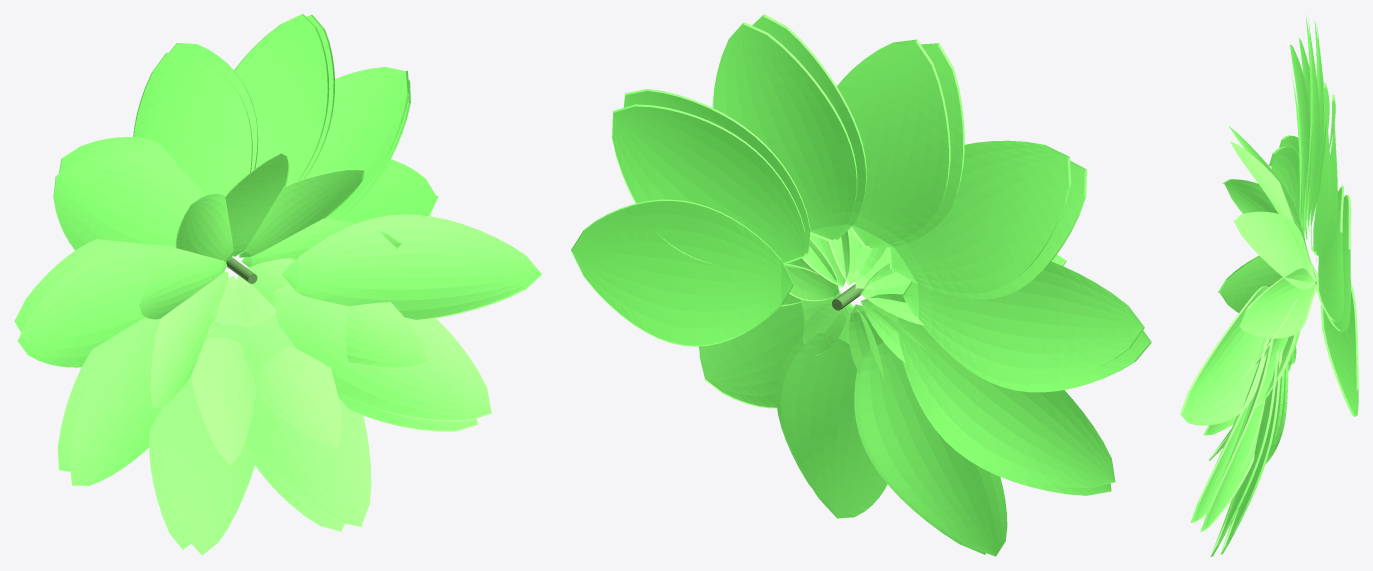
File: maturity.glb
3 renders of one model, left to right at view 1: azimuth 30°, elevation 25°; view 2: azimuth 150°, elevation 25°; view 3: azimuth 270°, elevation 25°, orthographic. The views are drawn at different scales.
Visible parts, largest first — view 1: world; view 2: world; view 3: world.
Boxes of the visible parts, x1,y1,x2,y2 form: world: [14, 14, 542, 555]; world: [571, 14, 1151, 556]; world: [1180, 15, 1358, 556].
Bounding box in the file's own units: 7.39 × 7.11 × 2.4.
